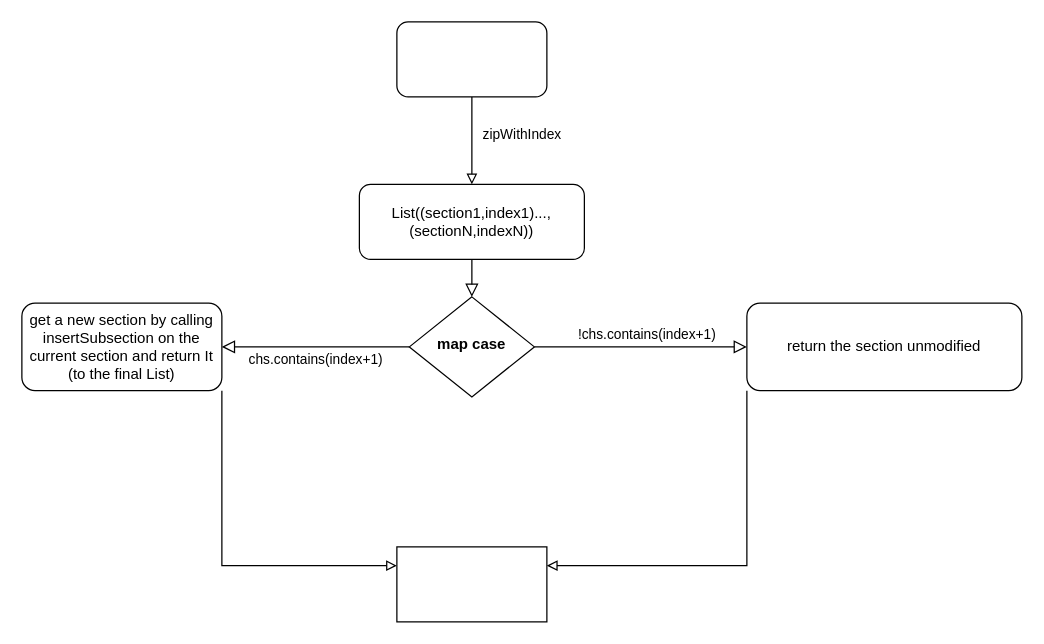
Some shapes in this 1044 by 644 pixel diagram are drawn without their labels. The shapes that lost their labels are listed below. From the top down, each one's centre as x and y in pixels, then its label:
point (471, 59): sections in chapters
point (471, 584): chapters modified
